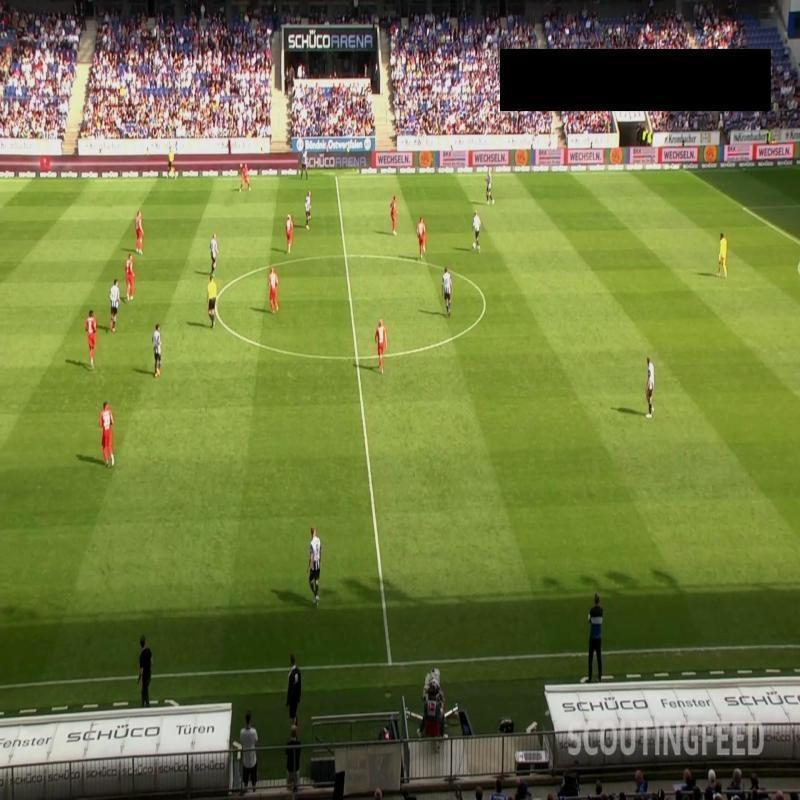13: (328, 169, 342, 183)
14: (337, 247, 352, 261)
15: (348, 350, 364, 367)
16: (380, 653, 400, 676)
9: (739, 201, 753, 215)
c: (476, 294, 490, 308), (209, 299, 222, 313)
